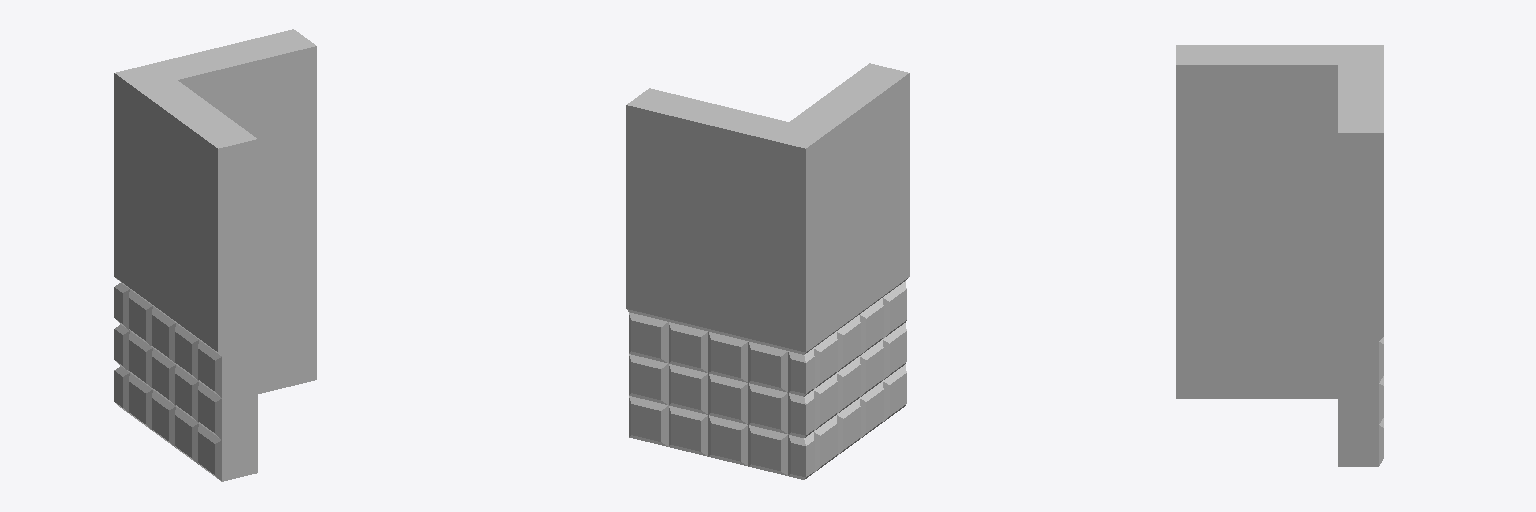
The model's file is wall_tiled_corner_outer.obj.
The picture shows the model from 3 angles: view 1: azimuth 30°, elevation 25°; view 2: azimuth 150°, elevation 25°; view 3: azimuth 270°, elevation 25°; orthographic projection.
Visible parts, largest first — view 1: wall_tiled_corner_outer; view 2: wall_tiled_corner_outer; view 3: wall_tiled_corner_outer.
Boxes of the visible parts, x1,y1,x2,y2 form: wall_tiled_corner_outer: [114, 29, 316, 481]; wall_tiled_corner_outer: [626, 63, 909, 479]; wall_tiled_corner_outer: [1176, 45, 1383, 466].
Size of the model in its own units: 2.25 by 4 by 2.25.